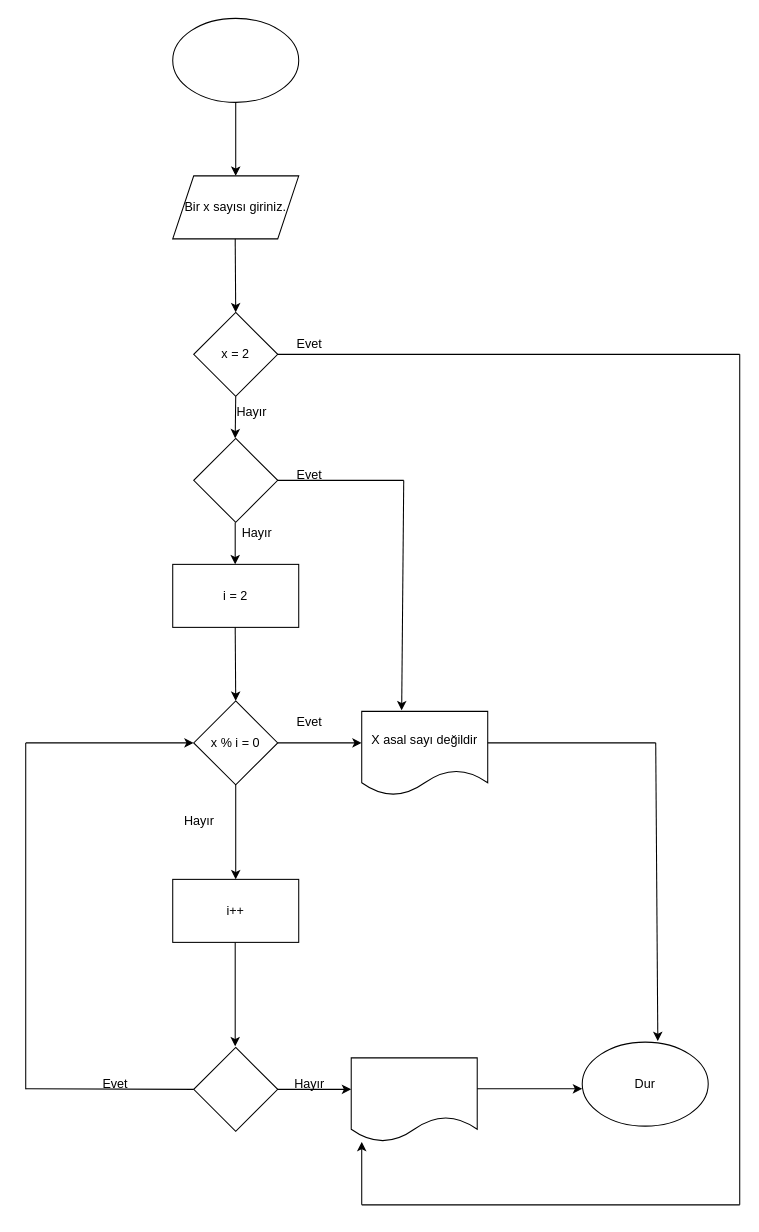
This 759x1232 diagram has some shape labels left out. The centre of each missing label's shape, as x and y in pixels:
Başla: the point at 235,59
i < x: the point at 235,1088
x = 1: the point at 235,479
X asal sayıdır.: the point at 413,1099
